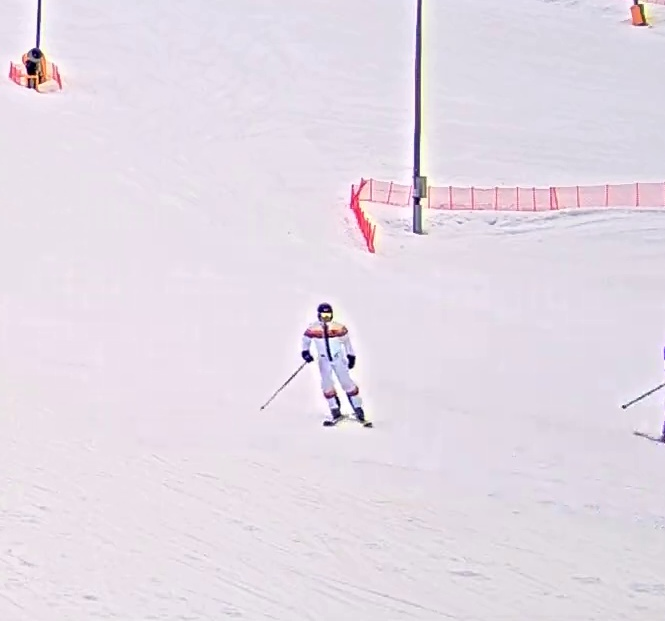skier: (255, 299, 376, 432)
